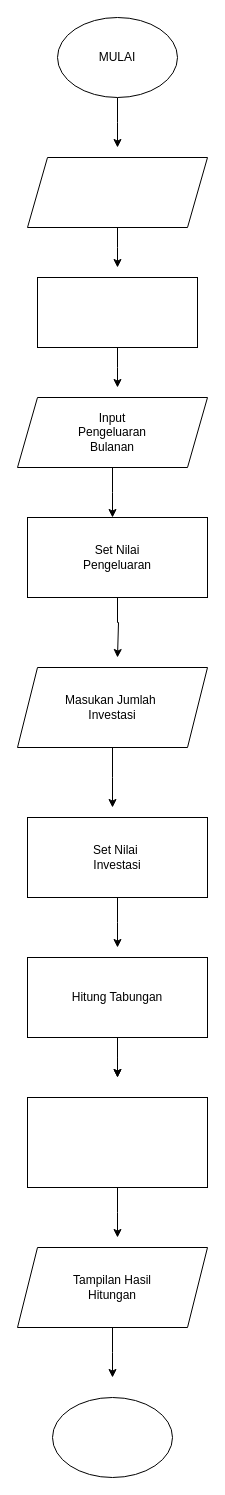
The diagram is 225 pixels wide and 1495 high, and some of its shapes have lost their labels. Here are the shapes that lost their labels. From the top down, the box of each, then its label:
(26, 156, 208, 228): Input Penghasilan Bulanan
(36, 276, 198, 348): PemBuat Objek FinanceCalculator
(26, 1096, 208, 1188): Hitung Investasi
(52, 1396, 172, 1478): SELESAIIII
